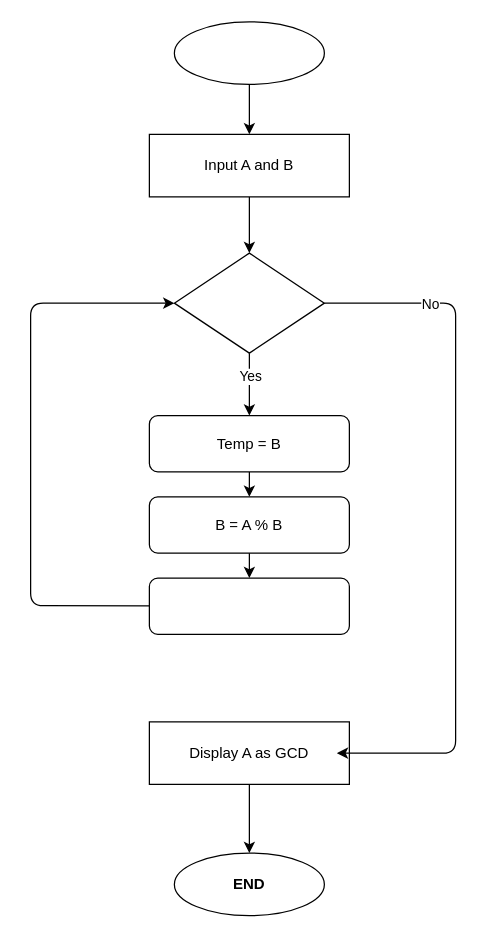
Image size: 488x938. Some labels were removed from this diagram. The centre of each missing label's shape, as x and y in pixels:
"A = Temp" goes at pixel 248 605.
"B !=0?" goes at pixel 248 302.
"START" goes at pixel 248 52.
